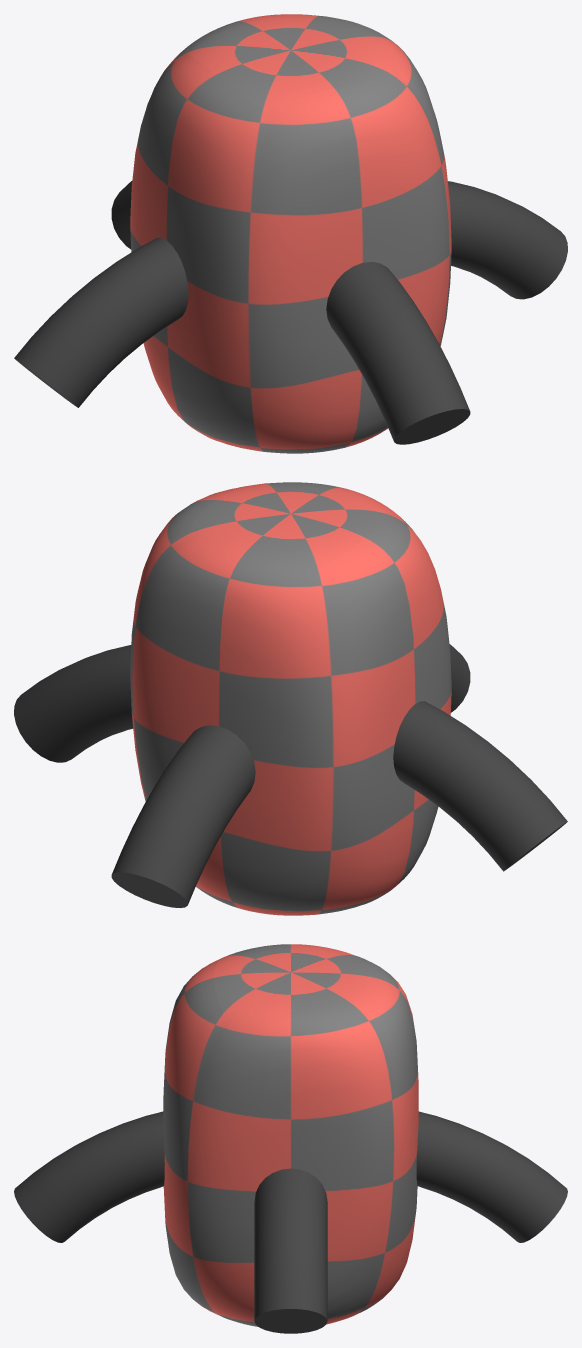
Rendered from Body(Oblong)+Colour(More_Red)+Arms(Bent_Down)+Pattern(Checkered).fbx.
The picture shows the model from 3 angles, top to bottom: view 1: azimuth 30°, elevation 25°; view 2: azimuth 150°, elevation 25°; view 3: azimuth 270°, elevation 25°; orthographic projection. The views are drawn at different scales.
Parts seen in each view (by area): view 1: Body(Oblong)+Colour(More_Red)+Arms(Bent_Down)+Pattern(Checke (×5); view 2: Body(Oblong)+Colour(More_Red)+Arms(Bent_Down)+Pattern(Checke (×5); view 3: Body(Oblong)+Colour(More_Red)+Arms(Bent_Down)+Pattern(Checke (×4).
Boxes of the visible parts, <box> form: Body(Oblong)+Colour(More_Red)+Arms(Bent_Down)+Pattern(Checke (×5): <box>14,14,567,453</box>; Body(Oblong)+Colour(More_Red)+Arms(Bent_Down)+Pattern(Checke (×5): <box>14,482,567,915</box>; Body(Oblong)+Colour(More_Red)+Arms(Bent_Down)+Pattern(Checke (×4): <box>14,944,567,1333</box>.
Bounding box in the file's own units: 60.67 × 40 × 60.67.
Materials: 2 (2 with a texture image).
